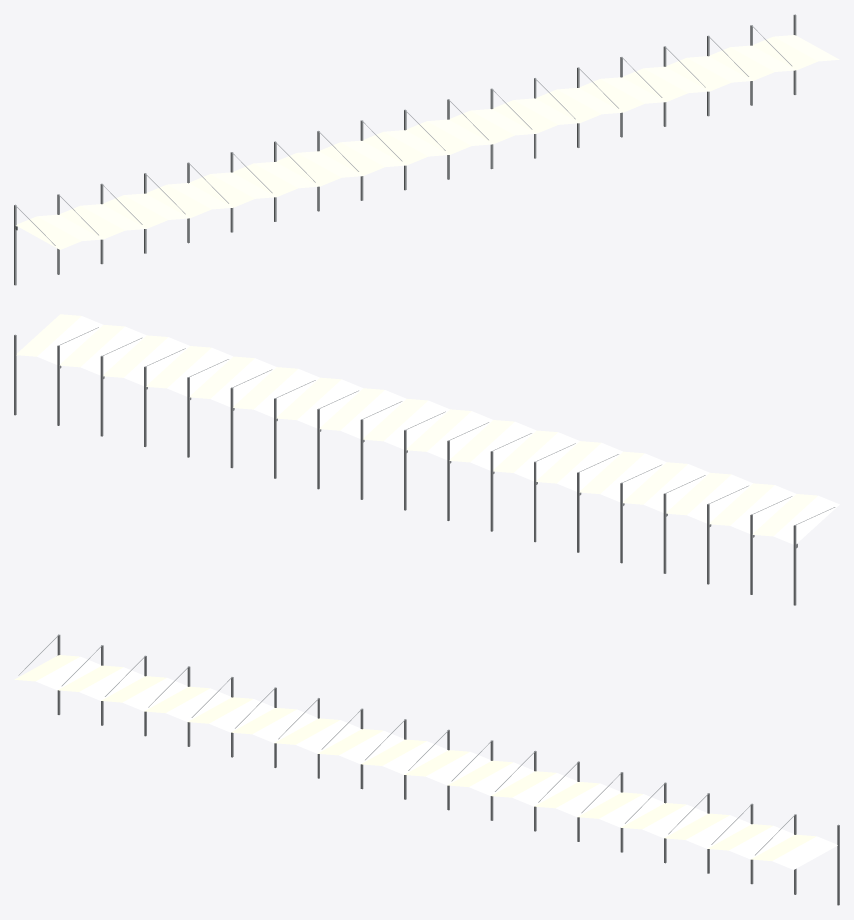
File: stand_roof_205.glb
3 views of the same model, one above another, from view 1: azimuth 30°, elevation 25°; view 2: azimuth 150°, elevation 25°; view 3: azimuth 330°, elevation 25° (orthographic).
Parts seen in each view (by area): view 1: chunk_0_0; view 2: chunk_0_0; view 3: chunk_0_0.
Part boxes in pixels (x1,y1,x2,y2): chunk_0_0: (14, 14, 839, 285); chunk_0_0: (14, 314, 839, 605); chunk_0_0: (14, 634, 839, 905).
Bounding box in the file's own units: 205 × 20 × 20.62.
